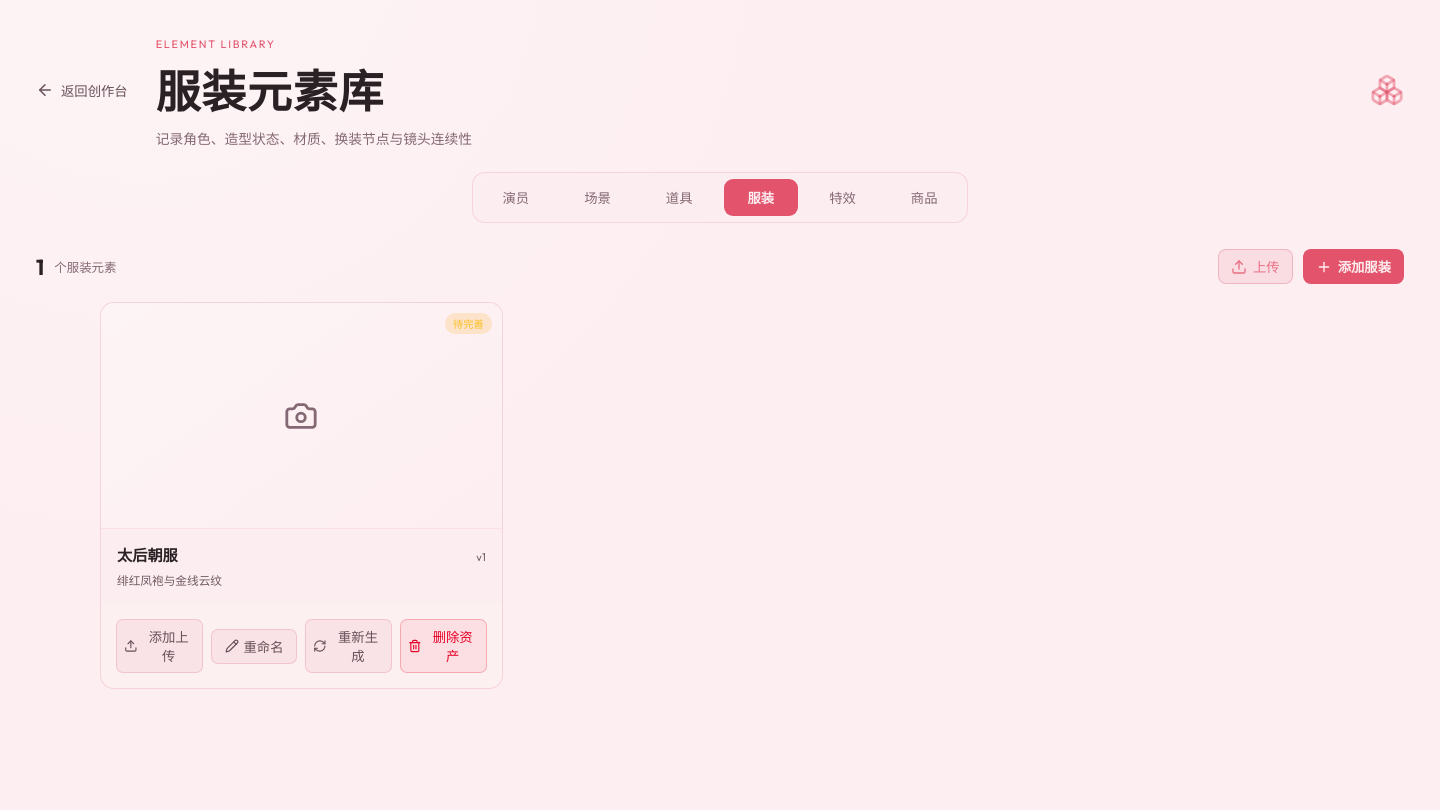
Scenario: ElementLibraryPage › replaces an empty card with the generated private reference image
Check: the heading "太后朝服" is shown, box [117, 543, 178, 565]
Click the button "重新生成" at (349, 646), box [305, 619, 392, 673]
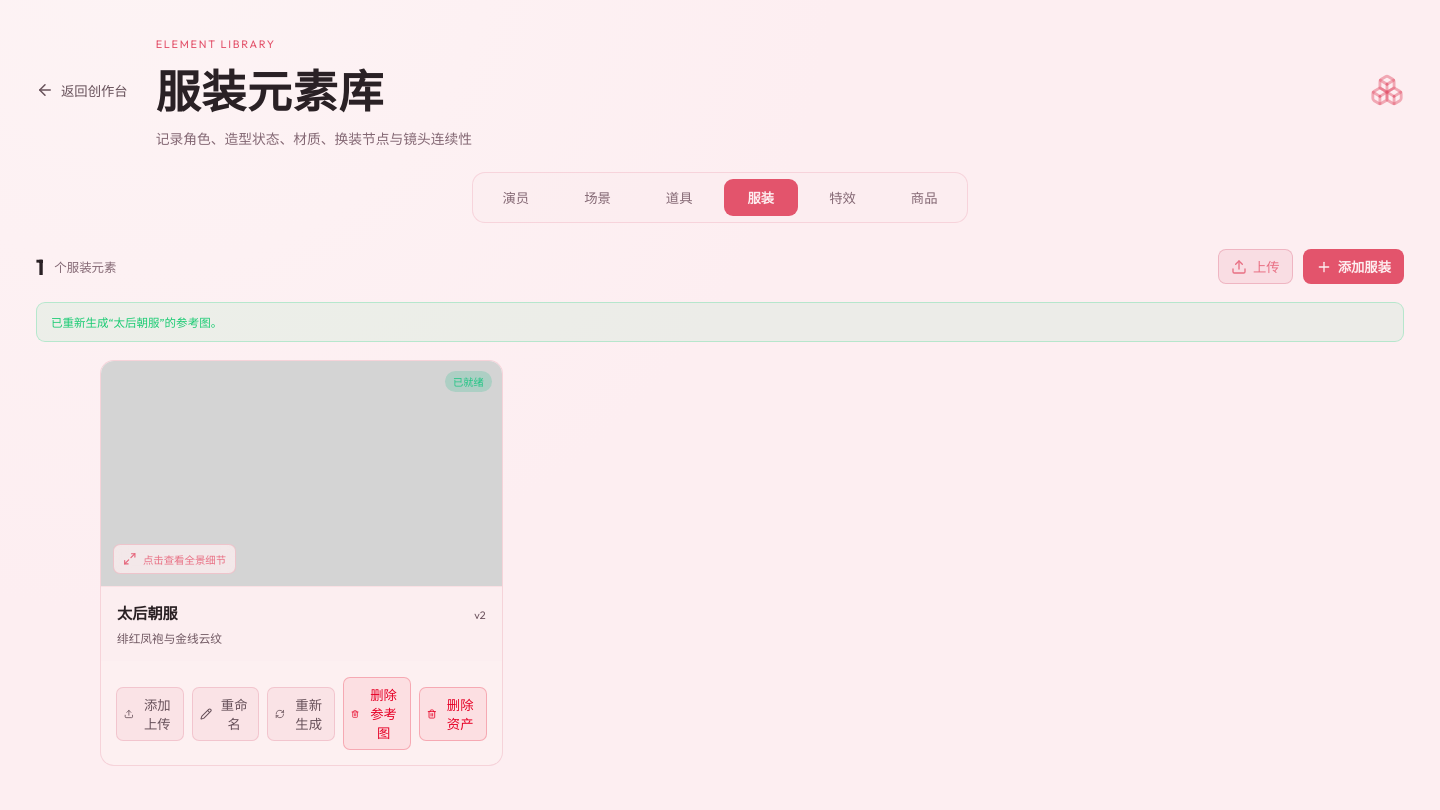
Check: the message shows "已重新生成“太后朝服”的参考图", box [51, 315, 222, 330]
